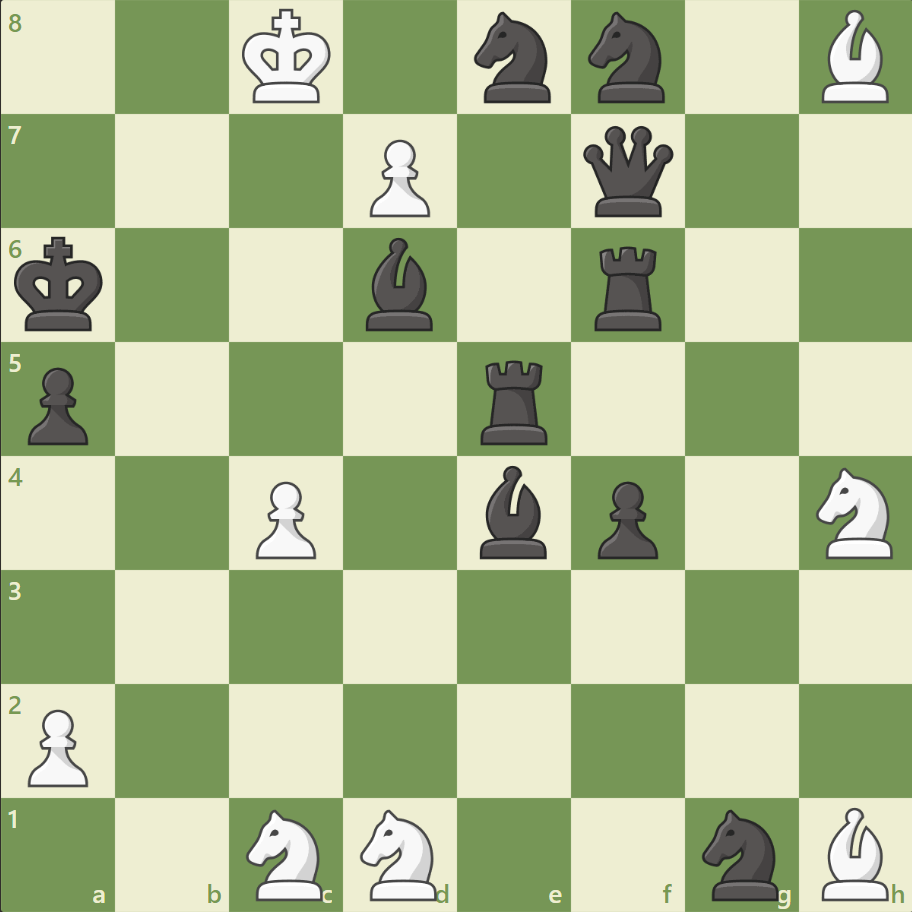B: (812, 6, 896, 109), (812, 801, 896, 904)
K: (238, 4, 338, 112)
N: (351, 802, 449, 904), (806, 461, 903, 564), (238, 802, 335, 904)
P: (247, 473, 322, 564), (20, 700, 95, 791), (361, 132, 435, 223)
b: (358, 233, 442, 336), (471, 460, 555, 563)
k: (11, 231, 111, 339)
n: (465, 7, 562, 110), (579, 7, 676, 110), (692, 802, 789, 904)
p: (20, 359, 95, 450), (588, 473, 662, 564)
q: (578, 122, 677, 222)
r: (587, 239, 670, 336), (473, 352, 556, 449)
